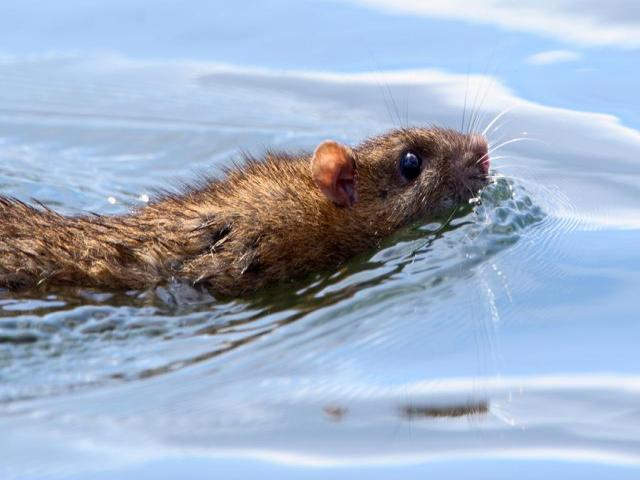Tikus: (0, 128, 493, 296)
